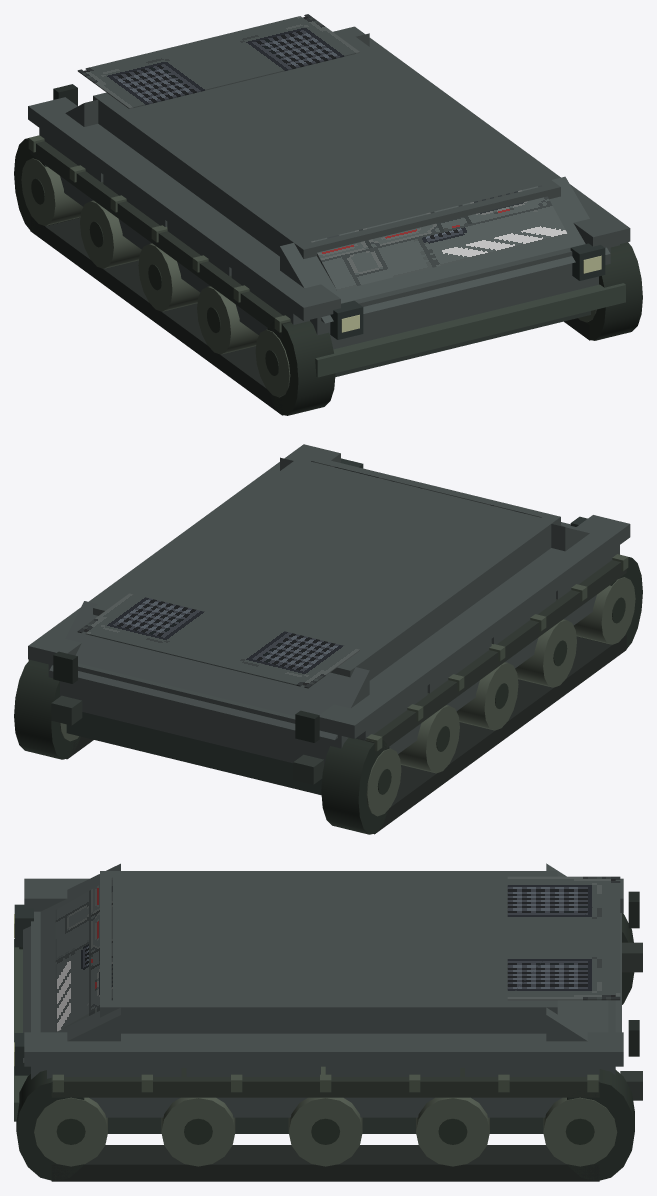
File: CMU3DReduxVehicleAev.glb
3 renders of one model, top to bottom at view 1: azimuth 30°, elevation 25°; view 2: azimuth 150°, elevation 25°; view 3: azimuth 270°, elevation 25°, orthographic. The views are drawn at different scales.
Visible parts, largest first — view 1: fighting compartment, track fender (×2), engine deck, road wheel (×5), glacis finish, lower armored hull, track return (×3), sloped glacis, front towing beam, lower track run, upper track run, side skirt panel (×4) (+3 smaller); view 2: fighting compartment, track fender (×2), engine deck, rear engine armor, road wheel (×5), lower armored hull, track return (×3), lower track run, sealed belly, upper track run, side skirt panel (×4), rear towing lug (×2) (+2 smaller); view 3: fighting compartment, track fender (×2), road wheel (×5), lower track run, engine deck, side skirt panel (×4), upper track run, track return (×3), glacis finish, sloped glacis, sealed belly, wheel hub (×5) (+5 smaller).
Part boxes in pixels (box(x1,y1,x2,y2)): fighting compartment: box(93, 33, 560, 258); track fender (×2): box(28, 26, 630, 320); engine deck: box(77, 14, 359, 108); road wheel (×5): box(21, 158, 290, 397); glacis finish: box(311, 185, 567, 290); lower armored hull: box(310, 244, 610, 349); track return (×3): box(14, 138, 642, 415); sloped glacis: box(280, 176, 610, 323); front towing beam: box(315, 283, 625, 377); lower track run: box(30, 216, 283, 415); upper track run: box(30, 141, 291, 337); side skirt panel (×4): box(39, 128, 309, 334); fighting compartment: box(93, 454, 560, 680); track fender (×2): box(28, 444, 630, 738); engine deck: box(77, 593, 359, 688); rear engine armor: box(49, 601, 369, 739); road wheel (×5): box(366, 577, 635, 816); lower armored hull: box(48, 522, 575, 765); track return (×3): box(14, 557, 642, 834); lower track run: box(374, 635, 626, 834); sealed belly: box(66, 712, 322, 795); upper track run: box(361, 560, 626, 756); side skirt panel (×4): box(355, 545, 619, 753); rear towing lug (×2): box(51, 695, 323, 784); fighting compartment: box(100, 871, 557, 1033); track fender (×2): box(24, 878, 623, 1066); road wheel (×5): box(34, 1097, 617, 1166); lower track run: box(51, 1145, 599, 1181); engine deck: box(507, 876, 620, 1000); side skirt panel (×4): box(47, 1066, 599, 1117); upper track run: box(51, 1068, 599, 1097); track return (×3): box(16, 913, 634, 1180); glacis finish: box(55, 877, 112, 1031); sloped glacis: box(23, 863, 120, 1062); sealed belly: box(108, 1117, 543, 1133); wheel hub (×5): box(56, 1118, 594, 1144).
Size of the model in its own units: 2.72 by 1.04 by 3.91.
15 materials, 2 textured.
